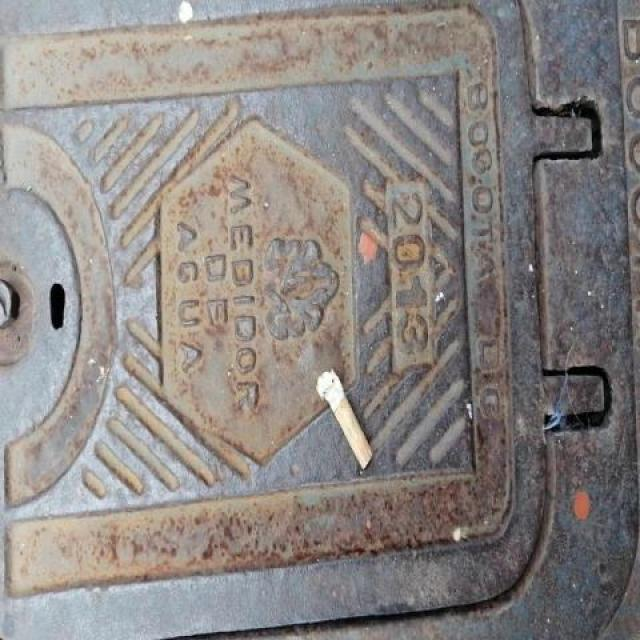non-organic waste: (310, 364, 378, 473)
